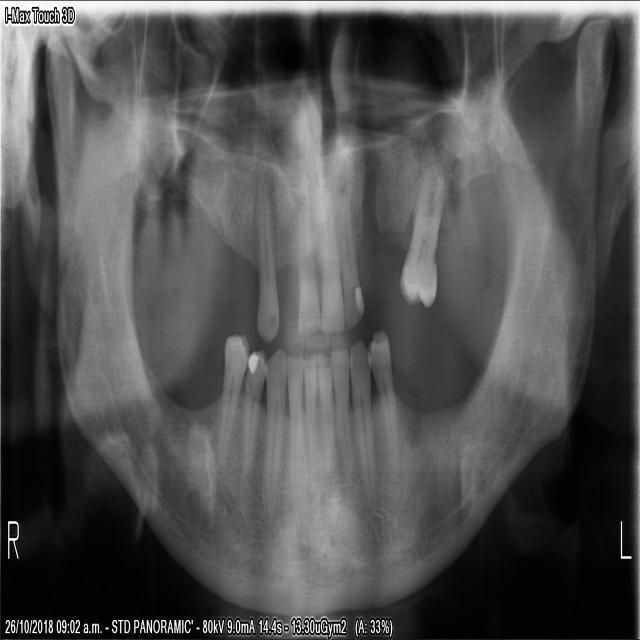LID: (327, 344, 352, 500), (314, 346, 337, 492)
LIU: (312, 168, 343, 339), (335, 173, 366, 334)
LMU: (396, 135, 448, 315)
LPMD: (362, 323, 398, 484), (345, 333, 374, 528)
RCD: (257, 339, 285, 523)
RCU: (251, 168, 280, 345)
RID: (293, 173, 319, 341), (282, 349, 302, 500), (298, 346, 315, 495)
RPMD: (211, 327, 249, 476), (236, 343, 266, 497)
